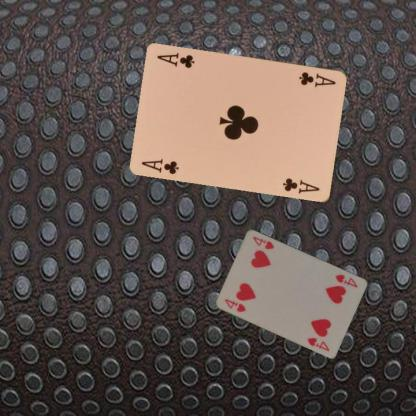4h: (332, 271, 359, 289), (221, 296, 247, 314)
Ac: (139, 156, 180, 176), (296, 69, 338, 88)
